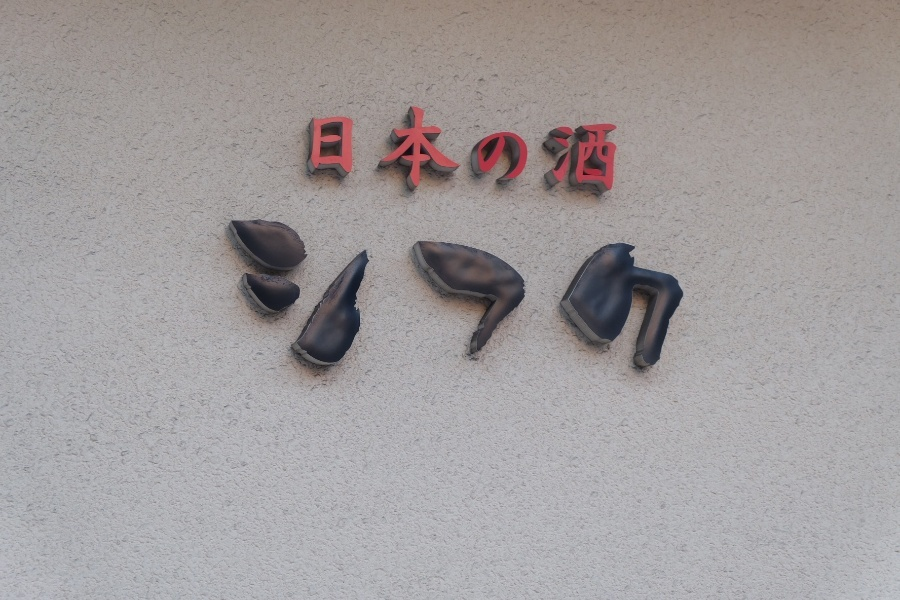text: (673, 211, 689, 386), (225, 211, 240, 386), (241, 211, 256, 386), (257, 211, 272, 386), (273, 211, 288, 386), (289, 211, 304, 386), (305, 211, 320, 386), (321, 211, 336, 386), (337, 211, 352, 386), (353, 211, 368, 386), (369, 211, 384, 386), (385, 211, 400, 386), (401, 211, 416, 386), (417, 211, 432, 386), (433, 211, 448, 386), (449, 211, 464, 386), (465, 211, 480, 386), (481, 211, 496, 386), (497, 211, 512, 386), (513, 211, 528, 386), (529, 211, 544, 386), (545, 211, 560, 386), (561, 211, 576, 386), (577, 211, 592, 386), (593, 211, 608, 386), (609, 211, 624, 386), (625, 211, 640, 386), (641, 211, 656, 386), (657, 211, 672, 386), (321, 99, 336, 200), (337, 99, 352, 200), (353, 99, 368, 200), (369, 99, 384, 200), (385, 99, 400, 200), (401, 99, 416, 200), (417, 99, 432, 200), (433, 99, 448, 200), (449, 99, 464, 200), (465, 99, 480, 200), (481, 99, 496, 200), (497, 99, 512, 200), (513, 99, 528, 200), (529, 99, 544, 200), (545, 99, 560, 200), (561, 99, 576, 200), (577, 99, 592, 200), (593, 99, 608, 200), (609, 99, 622, 200), (311, 99, 320, 200)
